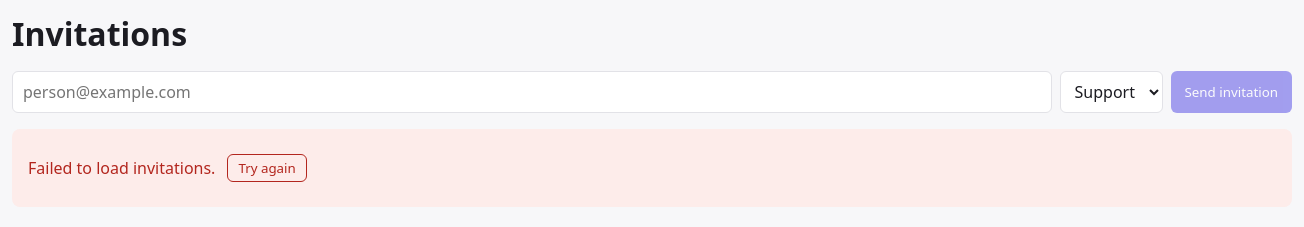
Scenario: InvitationsPage › shows an error state with retry when loading invitations fails
expect the text "Failed to load invitations." is shown: met, box [28,157,215,179]
Click the button "Try again" at [267, 168], box [227,154,307,182]
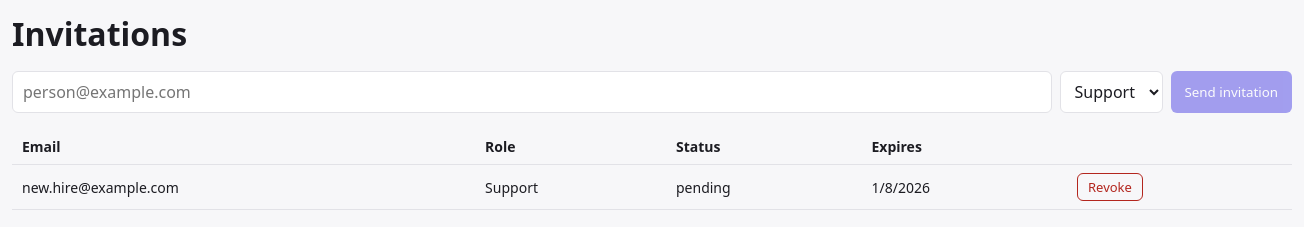
expect the text "new.hire@example.com" is shown: met, box [12,164,475,210]
